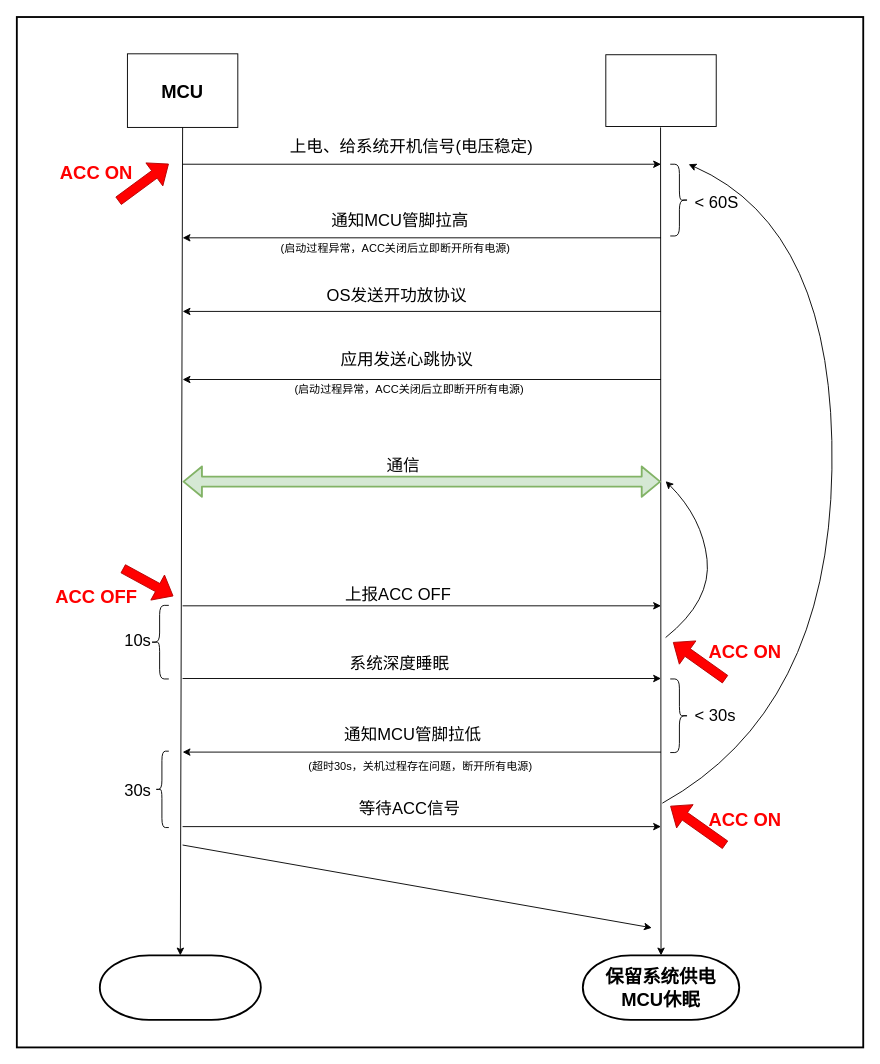
This 880x1064 diagram has some shape labels left out. The box of each missing label's shape, as (x1, y1, x2, y2) in pixels:
断开所有电源 MCU休眠: (98, 954, 261, 1020)
系统|应用: (605, 54, 716, 126)
